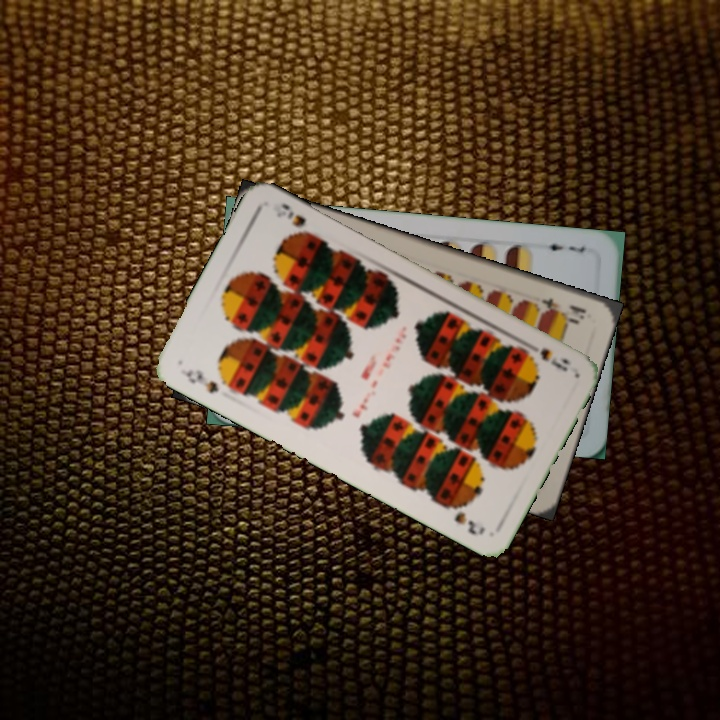E10: (537, 294, 589, 325)
E7: (538, 239, 588, 256)
S9: (520, 338, 574, 375), (176, 365, 222, 397)
